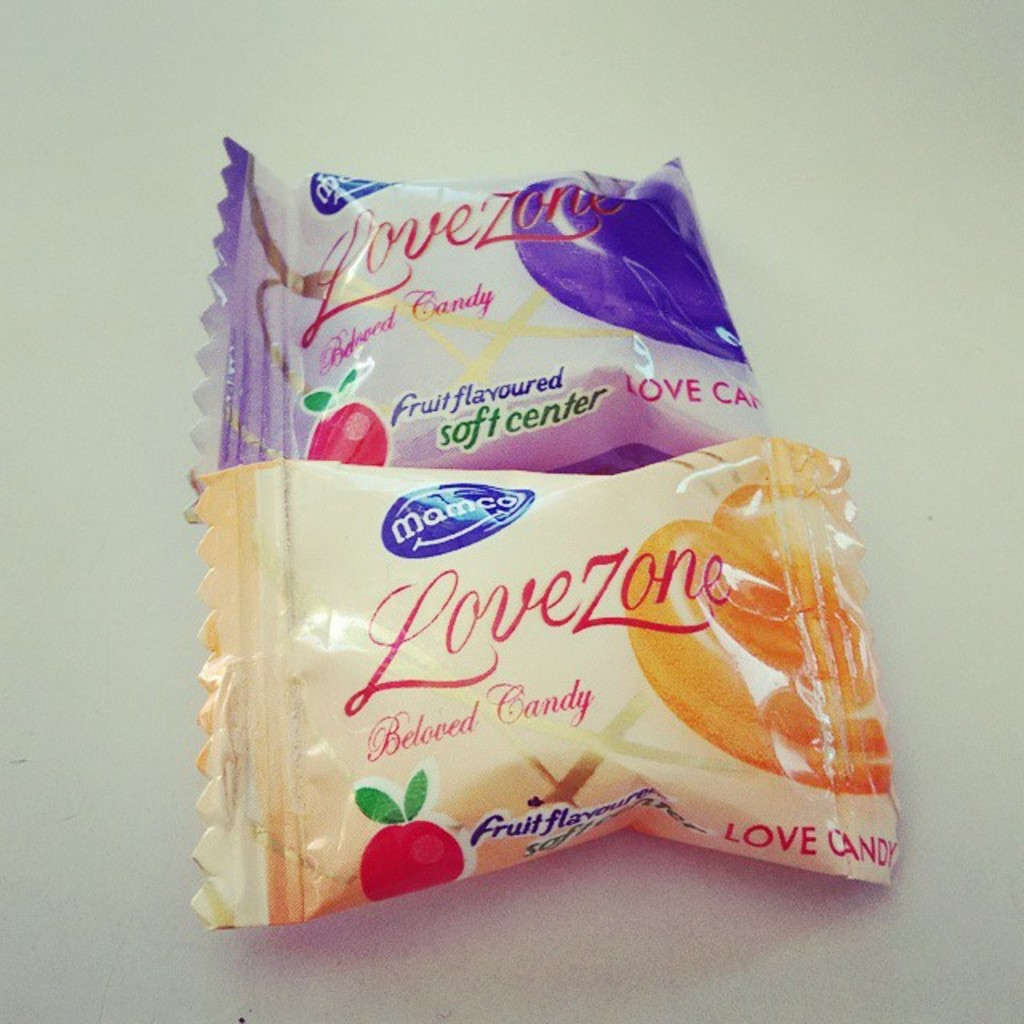Apple: (355, 769, 459, 902), (297, 366, 391, 470)
